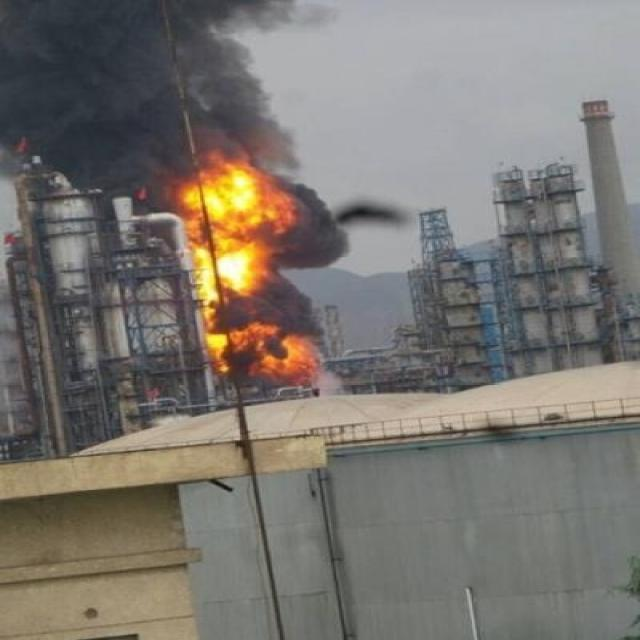Smoke: (0, 0, 352, 397)
